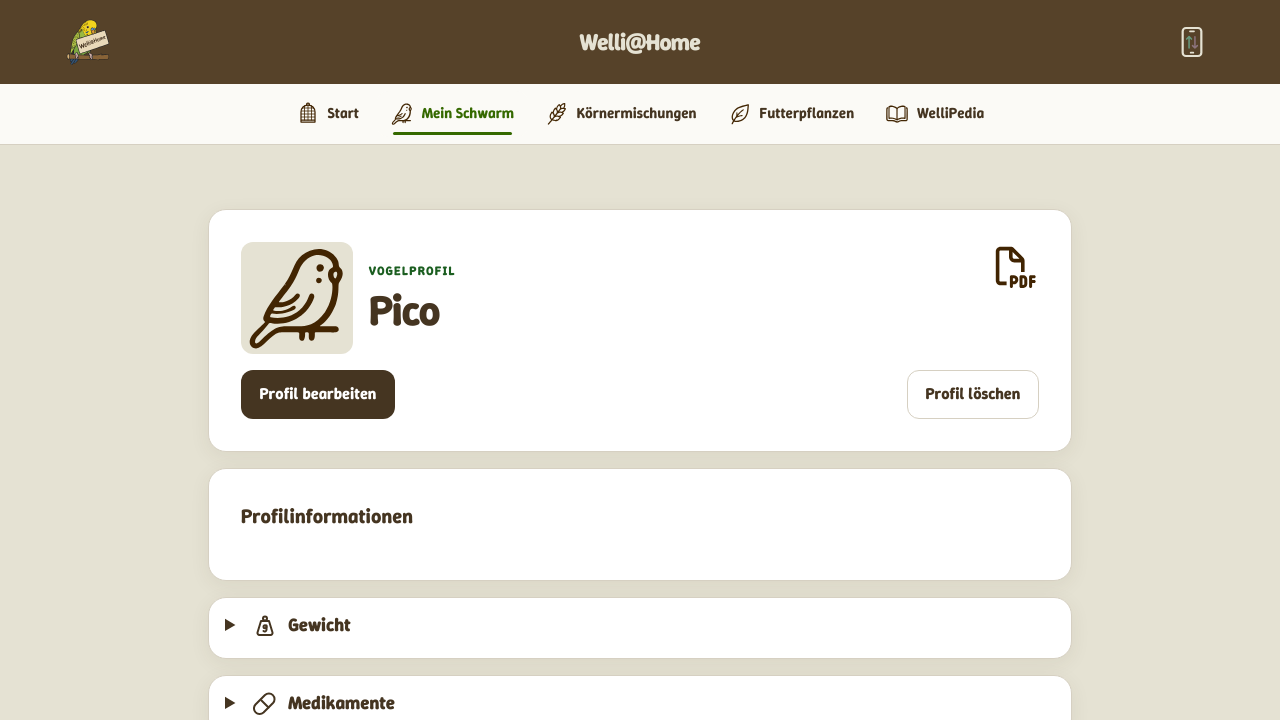
Test: Ereignisse im Vogelprofil und Chronik › zeigt vor dem Löschen die betroffenen Daten und löscht sie erst nach Bestätigung
The width and height of the screenshot is (1280, 720).
Expected: the heading "Profilinformationen" is shown, [241,503,413,529]
Step 1. Click the button "Profil löschen" → coordinates (973, 395), box [907,370,1039,419]
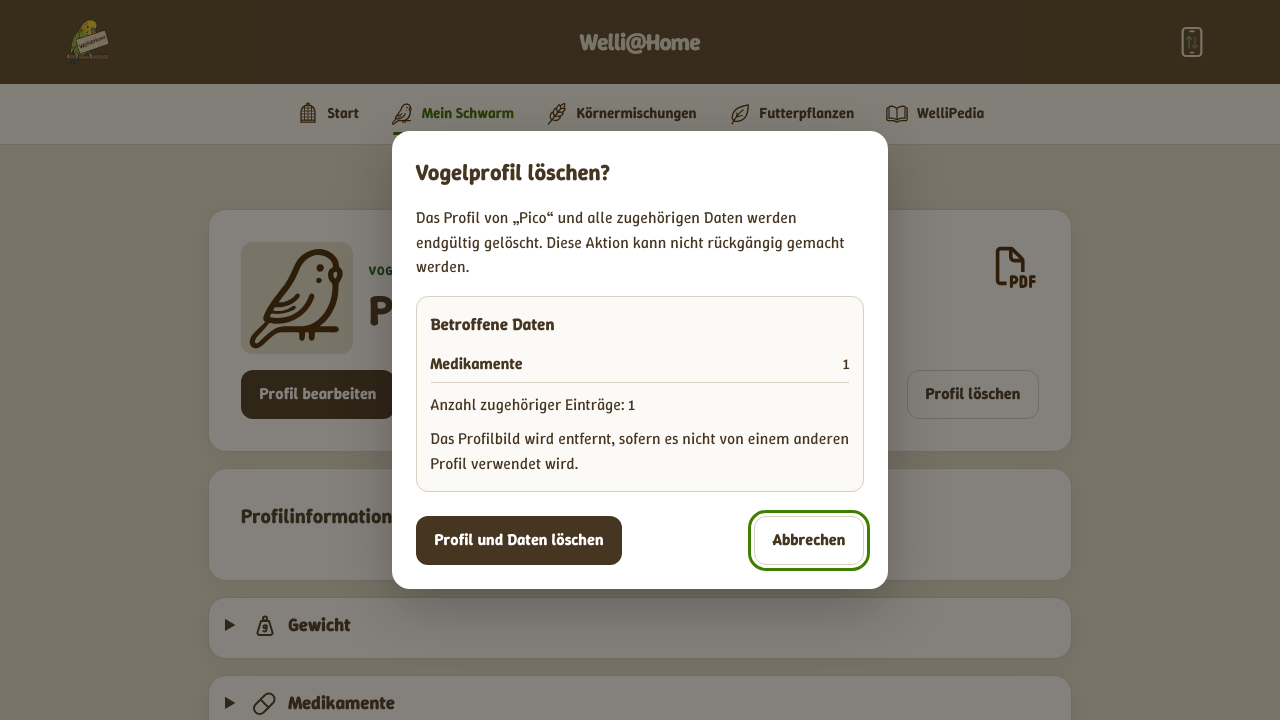
Expected: the text "Medikamente" is shown, [431,352,523,377]
Expected: the text "Anzahl zugehöriger Einträge: 1" is shown, [431,394,635,415]
Step 2. Click the button "Profil und Daten löschen" → coordinates (519, 540), box [416,516,622,565]
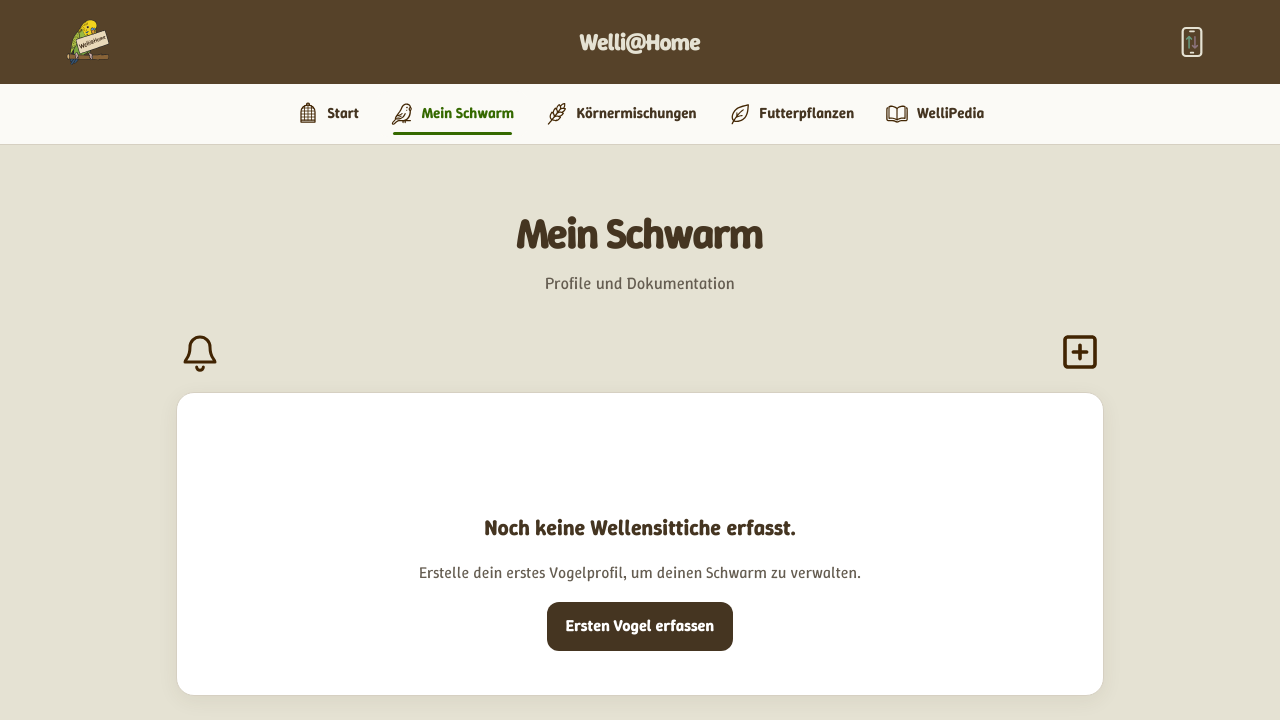
Expected: the heading "Mein Schwarm" is shown, [517,205,763,261]
